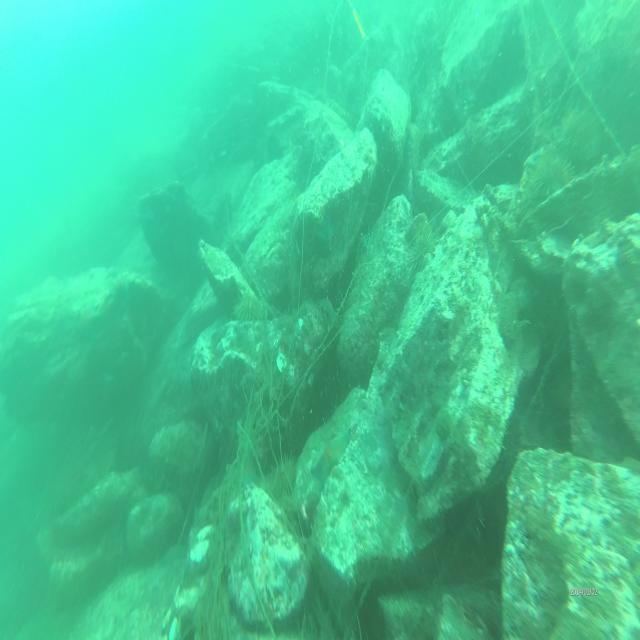echinus: (531, 152, 577, 200), (408, 220, 437, 276), (268, 455, 296, 494), (230, 297, 264, 326)
starfish: (306, 430, 350, 474)
